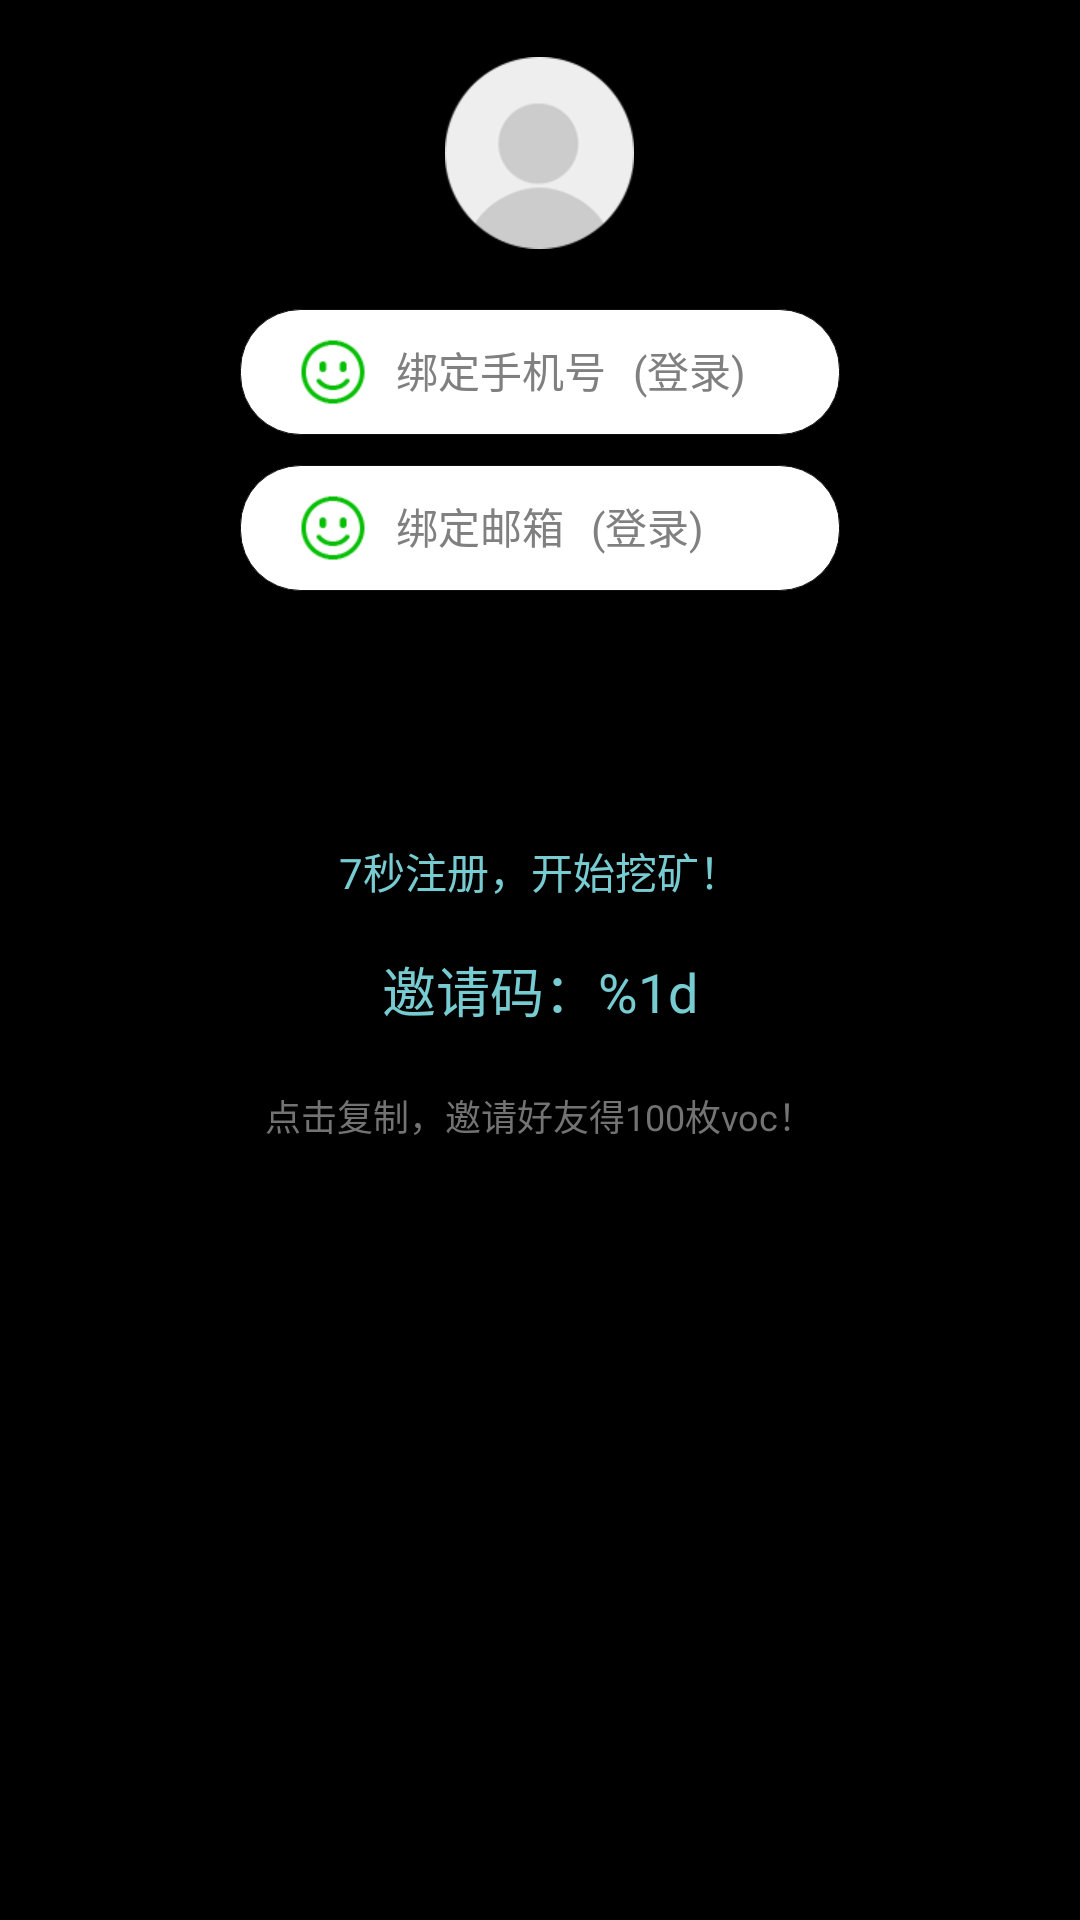

Locate icon controls on the screen. Image size 1080×1920, boxes as (x1, y1, x2, y2).
head: (445, 57, 634, 249)
